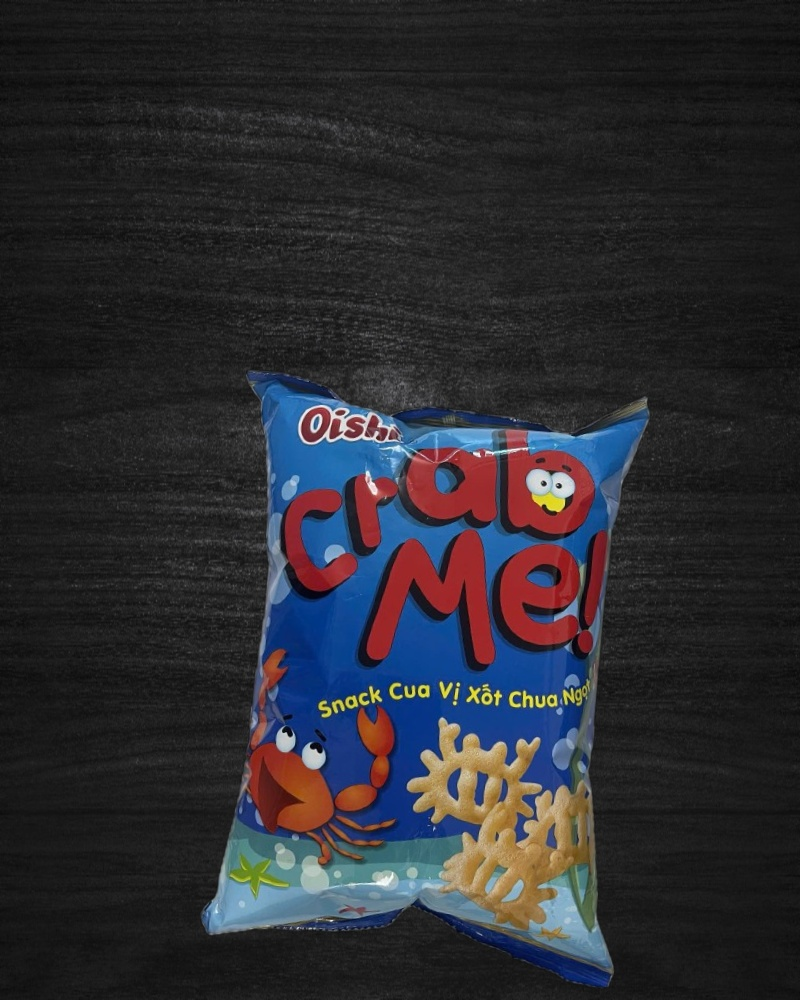Snack chay: (196, 362, 664, 991)
